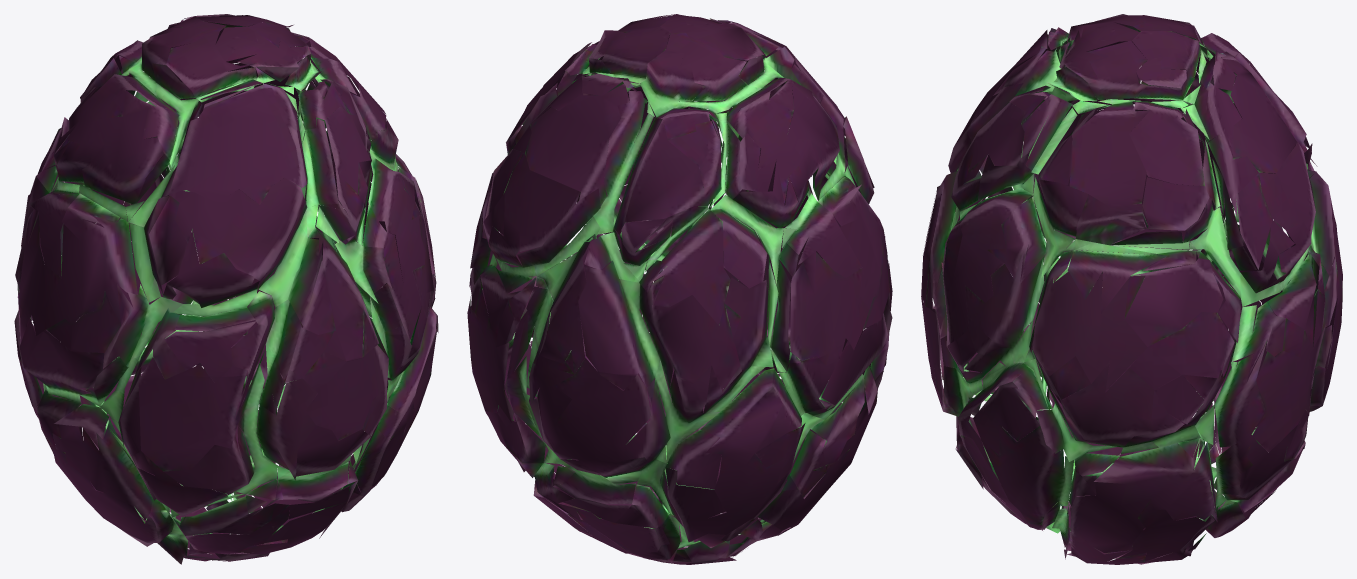
The model's file is venom.glb.
3 renders of one model, left to right at view 1: azimuth 30°, elevation 25°; view 2: azimuth 150°, elevation 25°; view 3: azimuth 270°, elevation 25°, orthographic.
Parts seen in each view (by area): view 1: Cap, Cup; view 2: Cap, Cup; view 3: Cap, Cup.
Boxes of the visible parts, x1,y1,x2,y2 form: Cap: [15, 14, 435, 376]; Cup: [14, 208, 438, 564]; Cap: [469, 14, 890, 378]; Cup: [467, 207, 892, 564]; Cap: [921, 14, 1342, 376]; Cup: [921, 200, 1342, 564].
Size of the model in its own units: 0.7364 by 1 by 0.7376.
1 material, 1 textured.
